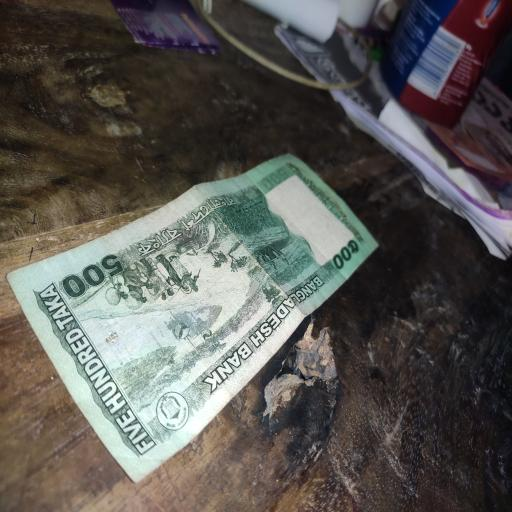500taka: (10, 152, 377, 483)
